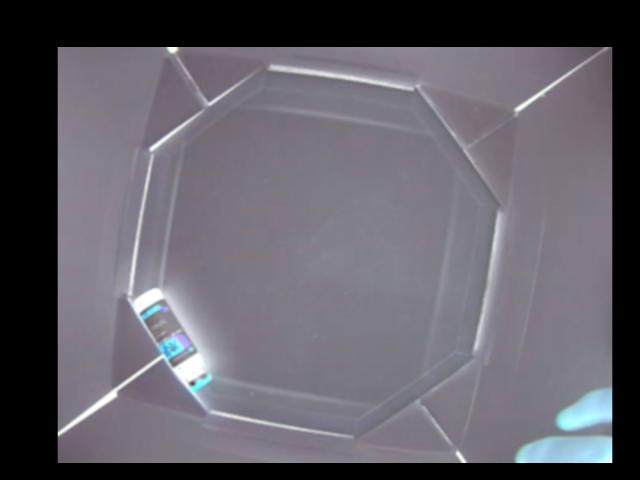Medicine: (133, 287, 210, 388)
